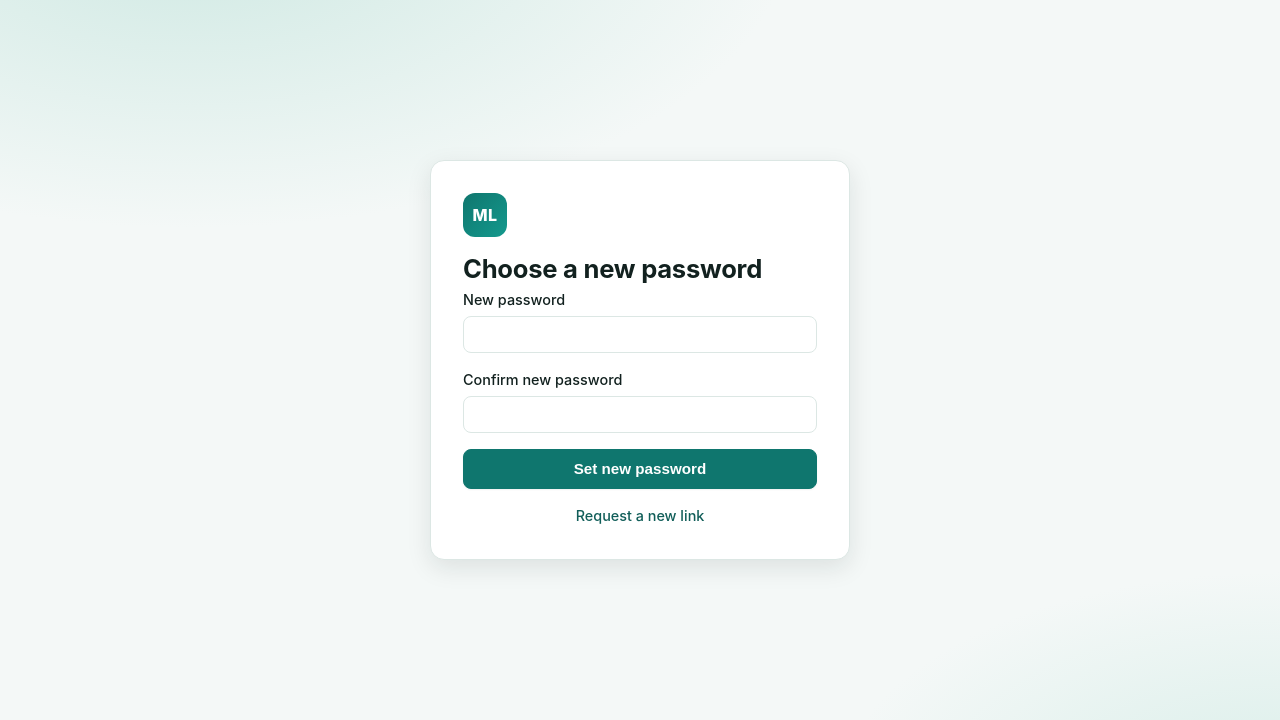
it: ResetPassword › refuses passwords that do not match
In the password field labelled "New password": (640,335) [463,316,817,353], type "BrandNew123"
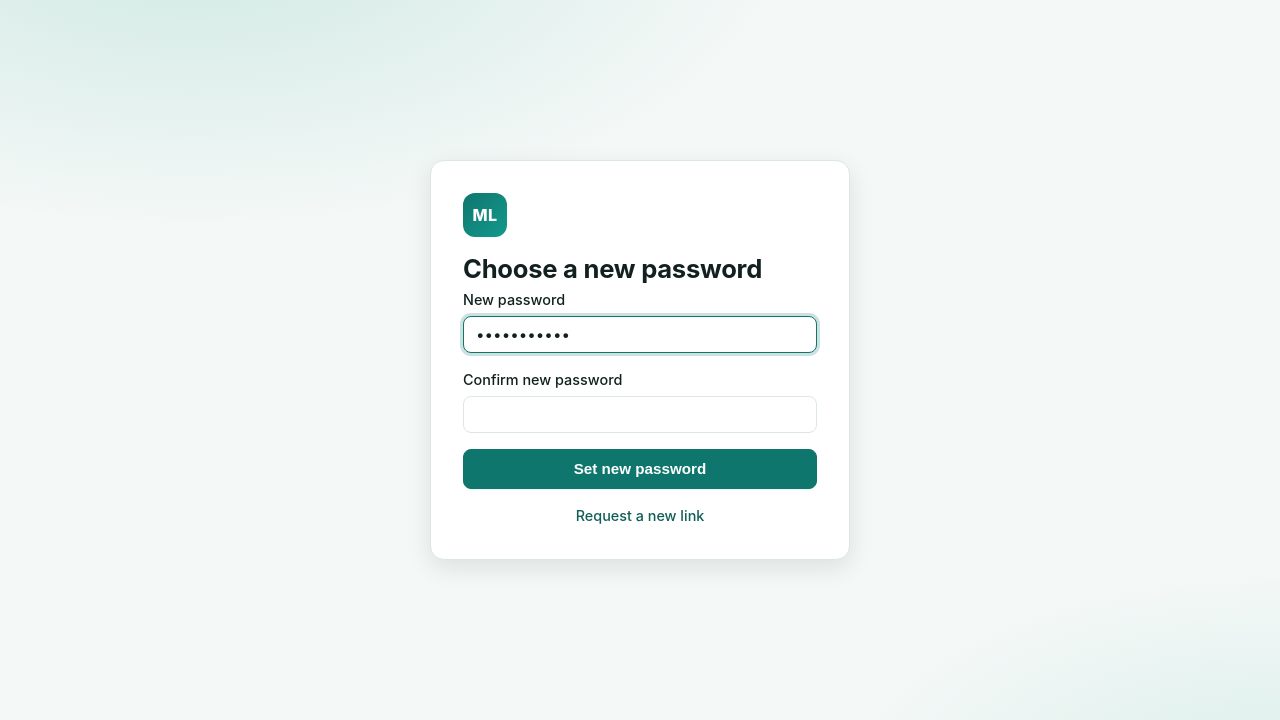
In the password field labelled "Confirm new password": (640,415) [463,396,817,433], type "Different123"
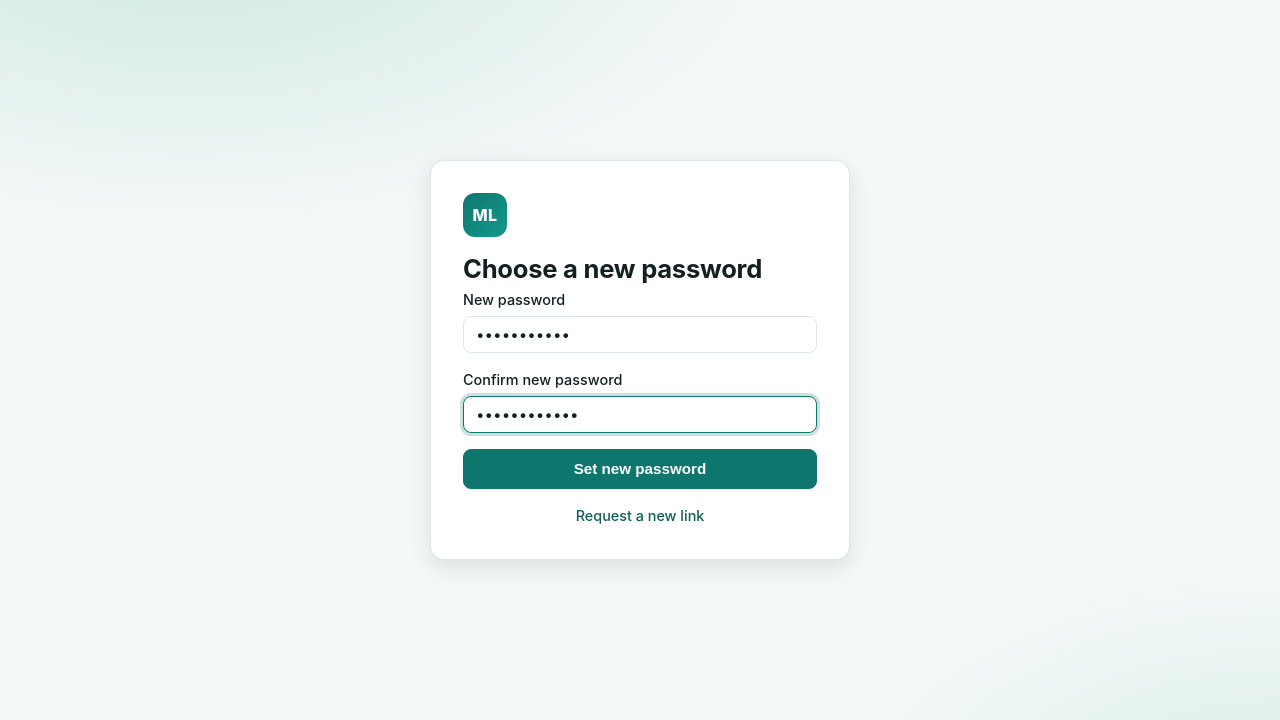
Click the button "Set new password": (640,469) [463,449,817,489]
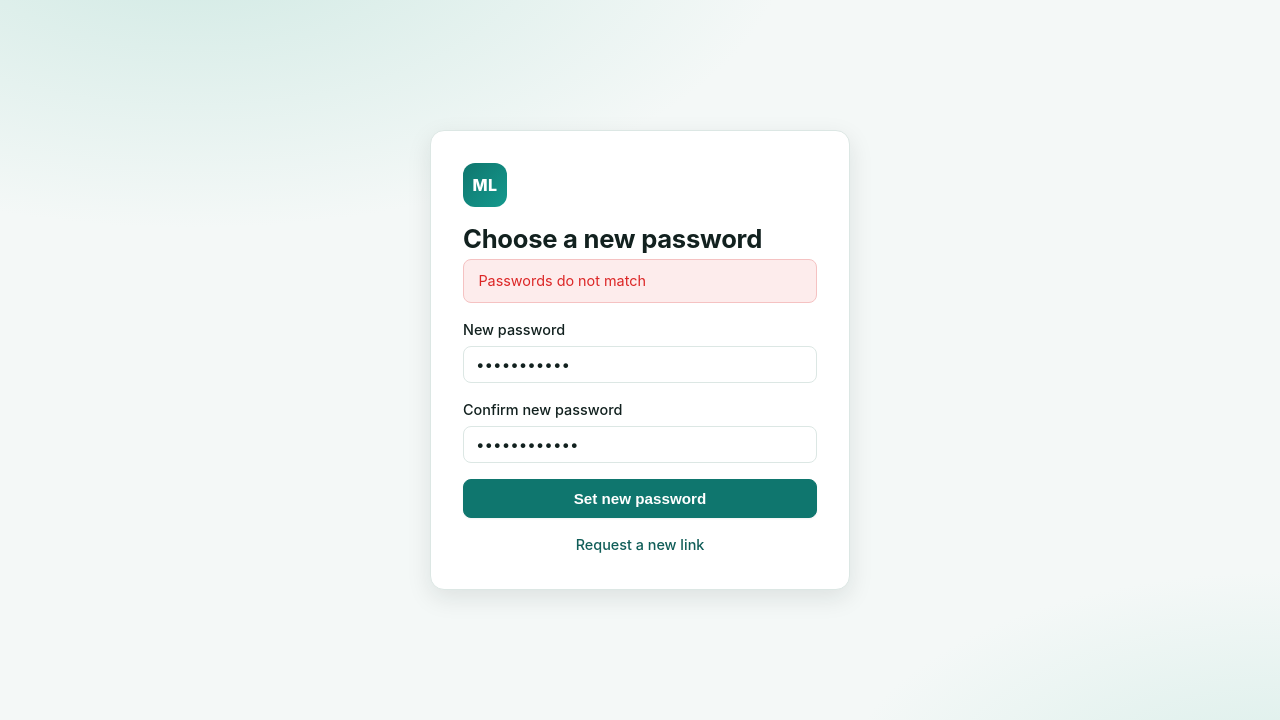
Result: the text "Passwords do not match" is shown at [463,259,817,303]
